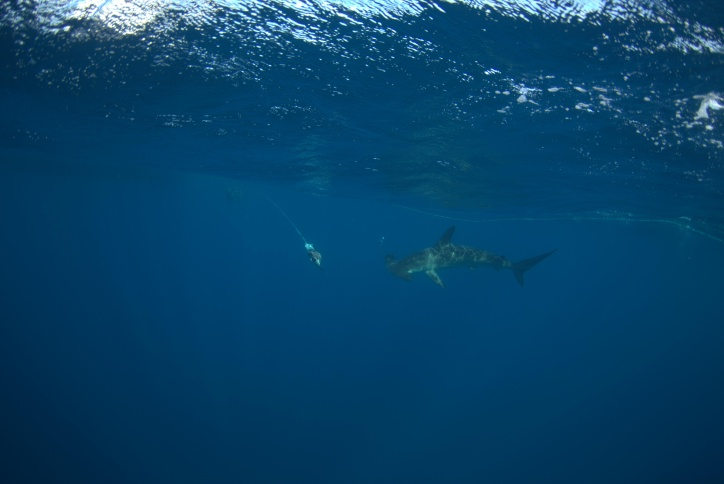Hammer: (353, 204, 564, 323)
